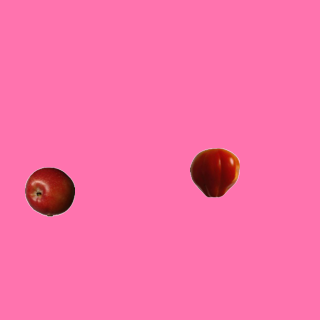Apple Braeburn: (24, 166, 74, 216)
Tomato 1: (189, 147, 239, 197)
